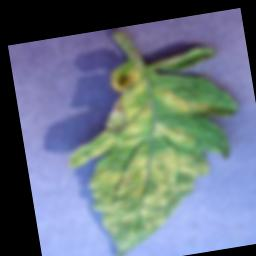Leaf_Mold: (55, 47, 256, 256)
